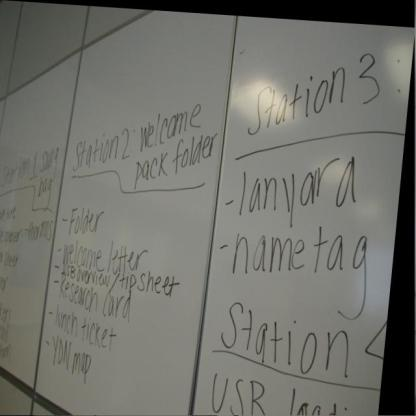Handwritten text: (218, 205, 378, 324), (205, 296, 366, 384), (227, 55, 362, 140), (227, 148, 369, 226), (119, 128, 229, 192), (125, 95, 219, 153), (51, 272, 140, 328), (53, 262, 180, 300), (42, 306, 125, 363), (58, 239, 155, 275), (39, 333, 105, 384), (206, 370, 275, 416), (73, 135, 121, 175), (67, 204, 107, 238), (0, 156, 37, 192), (36, 141, 65, 179), (25, 218, 58, 247), (35, 175, 55, 210), (0, 248, 21, 270), (0, 226, 24, 245), (1, 303, 17, 326)
